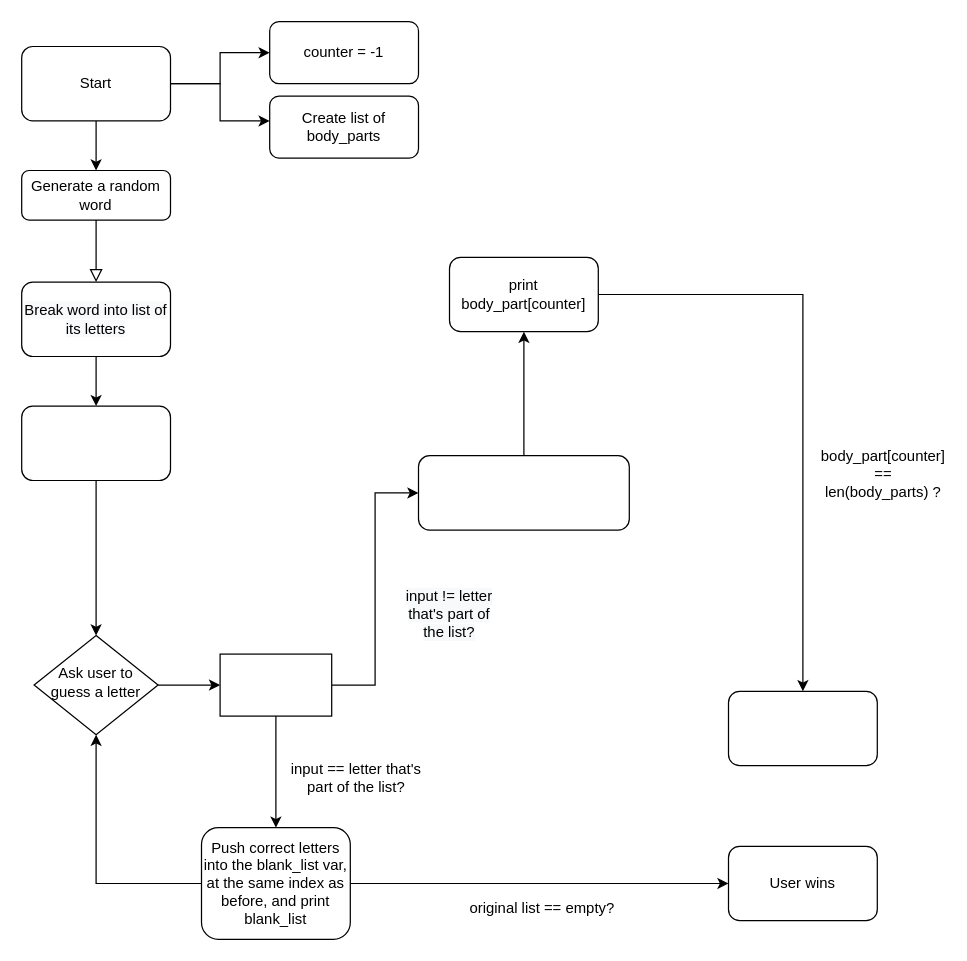
Some shapes in this 967 by 961 pixel diagram are drawn without their labels. The shapes that lost their labels are listed below. From the top down, each one's centre as x and y in pixels, then its label:
(95,442): create blank_list var with "-" == len(letter_list)
(523,492): print blank_list and print that input was incorrect.
(275,684): Counter += 1
(802,728): User loses
